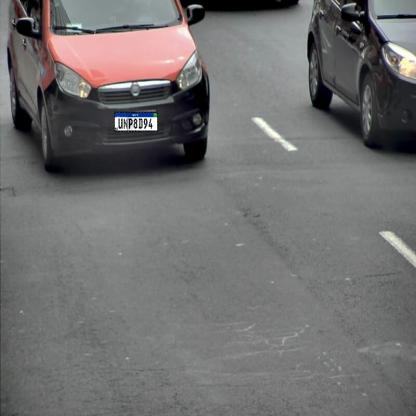PlacaM: (114, 112, 158, 132)
